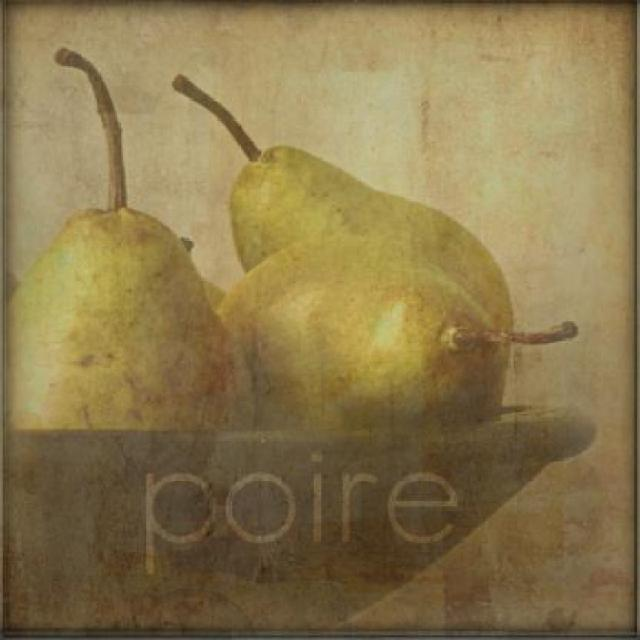Pear: (212, 232, 508, 432), (221, 146, 519, 343), (7, 201, 255, 437), (180, 232, 231, 314), (188, 274, 234, 316)
